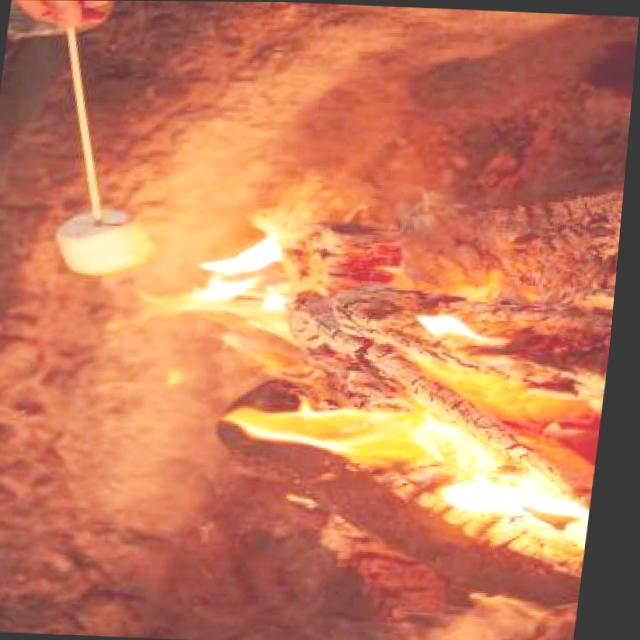helmet: (189, 378, 603, 527), (121, 227, 349, 343)
